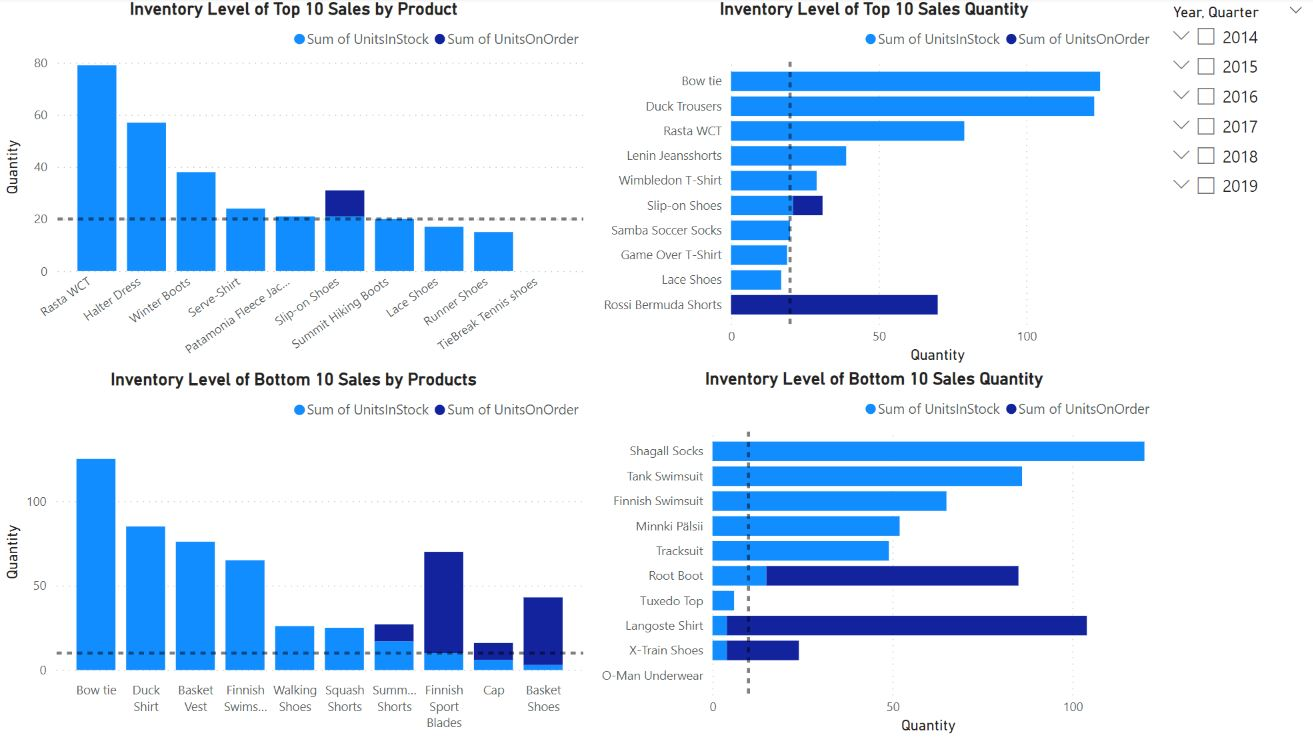

What the dashboard file says about the page in this screenshot:
{"tool":"powerbi","page":{"name":"Inventory Analysis","canvas":[1280,720],"ordinal":3},"visuals":[{"type":"columnChart","title":"Inventory Level of Bottom 10 Sales by Products","fields":{"Y":["products_dim.UnitsInStock","products_dim.UnitsOnOrder"],"Category":["products_dim.ProductName"]},"box":[0,360.5,573.3,359.5],"z":0},{"type":"columnChart","title":"Inventory Level of Top 10 Sales by Product","fields":{"Y":["products_dim.UnitsInStock","products_dim.UnitsOnOrder"],"Category":["products_dim.ProductName"]},"box":[0,0,573.3,360.5],"z":1000},{"type":"barChart","title":"Inventory Level of Top 10 Sales Quantity","fields":{"Category":["products_dim.ProductName"],"Y":["products_dim.UnitsInStock","products_dim.UnitsOnOrder"]},"box":[573.3,0,554.8,359.5],"z":2000},{"type":"barChart","title":"Inventory Level of Bottom 10 Sales Quantity","fields":{"Category":["products_dim.ProductName"],"Y":["products_dim.UnitsInStock","products_dim.UnitsOnOrder"]},"box":[573.3,359.5,554.8,360.5],"z":3000},{"type":"slicer","fields":{"Values":["orders_dim.OrderDate.Variation.Date Hierarchy.Year","orders_dim.OrderDate.Variation.Date Hierarchy.Quarter"]},"box":[1128.2,0,151.2,670.9],"z":4000}]}

Visuals, with their boxes in screenshot pixels (x1, y1, x2, y2), scaled from the page's 1280x720 canvas onto the 1313x738 screenshot:
"Inventory Level of Bottom 10 Sales by Products" columnChart: bbox(0, 370, 588, 737)
"Inventory Level of Top 10 Sales by Product" columnChart: bbox(0, 0, 588, 370)
"Inventory Level of Top 10 Sales Quantity" barChart: bbox(588, 0, 1157, 368)
"Inventory Level of Bottom 10 Sales Quantity" barChart: bbox(588, 368, 1157, 737)
slicer - orders_dim.OrderDate.Variation.Date Hierarchy.Year x orders_dim.OrderDate.Variation.Date Hierarchy.Quarter: bbox(1157, 0, 1312, 688)
